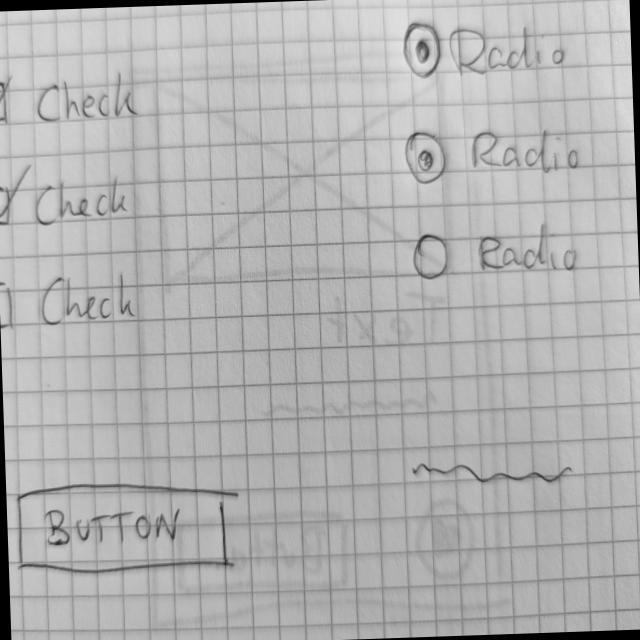button: (14, 476, 234, 581)
checkbox: (1, 157, 134, 231), (1, 64, 147, 131), (1, 272, 138, 336)
radio: (403, 121, 585, 188), (401, 13, 572, 82), (409, 219, 582, 283)
text: (409, 450, 576, 493)
